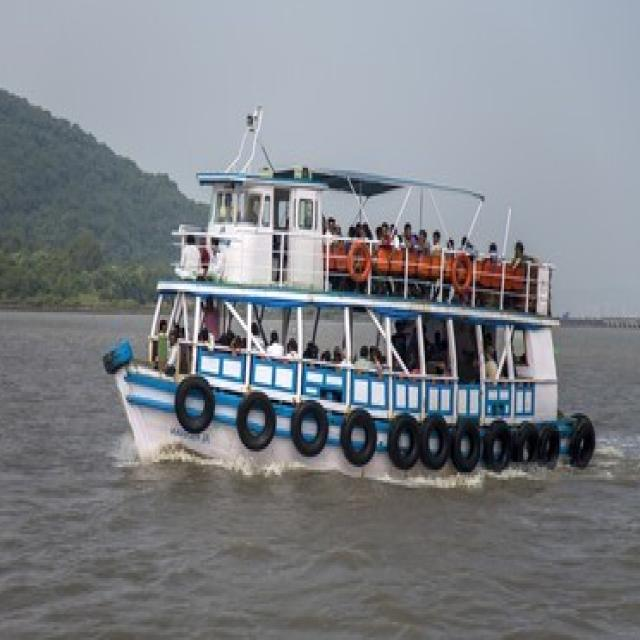houseboat: (107, 118, 602, 498)
